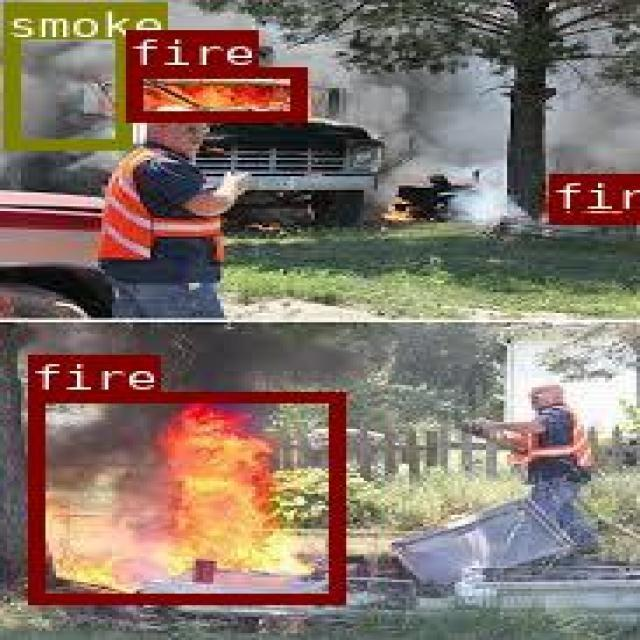fire: (28, 390, 342, 601), (123, 66, 304, 119), (547, 173, 633, 221)
smoke: (3, 2, 129, 148)
